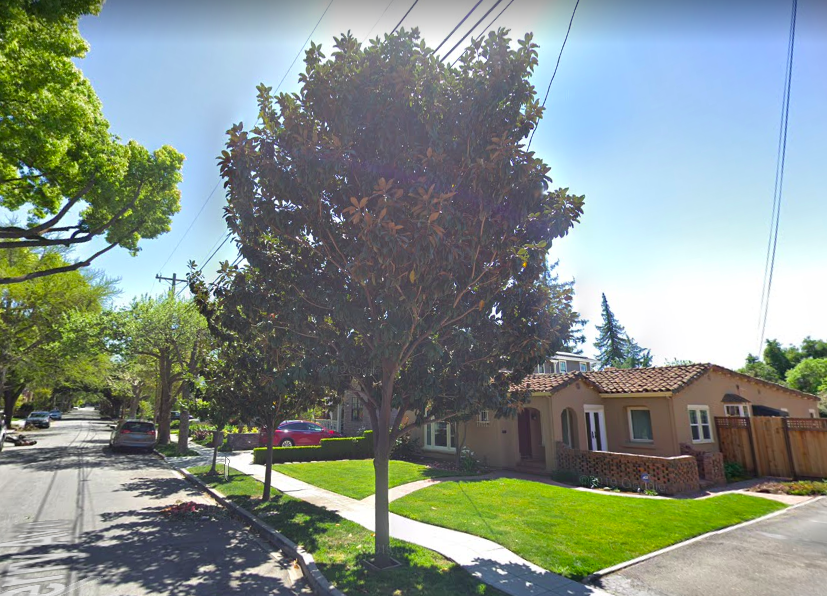tree: (215, 24, 587, 571)
